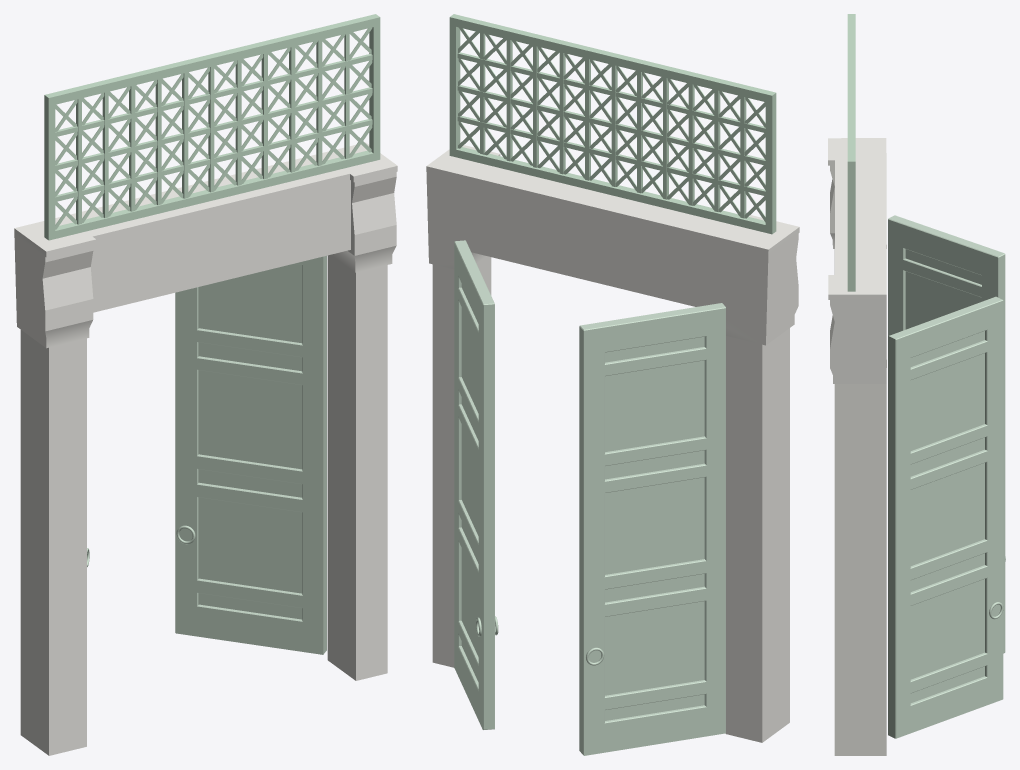
Rendered from sanctuaryDoors.glb.
3 renders of one model, left to right at view 1: azimuth 30°, elevation 25°; view 2: azimuth 150°, elevation 25°; view 3: azimuth 270°, elevation 25°, orthographic. The views are drawn at different scales.
Parts seen in each view (by area): view 1: SanctuaryDoorArch, SanctuaryRightDoor, SanctuaryGrate; view 2: SanctuaryDoorArch, SanctuaryLeftDoor, SanctuaryGrate, SanctuaryRightDoor; view 3: SanctuaryRightDoor, SanctuaryDoorArch, SanctuaryLeftDoor, SanctuaryGrate.
Boxes of the visible parts, x1=… form: SanctuaryDoorArch: x1=14, y1=142, x2=397, y2=755; SanctuaryRightDoor: x1=175, y1=255, x2=326, y2=654; SanctuaryGrate: x1=44, y1=14, x2=380, y2=240; SanctuaryDoorArch: x1=426, y1=145, x2=799, y2=742; SanctuaryLeftDoor: x1=579, y1=303, x2=725, y2=755; SanctuaryGrate: x1=449, y1=14, x2=776, y2=234; SanctuaryRightDoor: x1=454, y1=240, x2=498, y2=729; SanctuaryRightDoor: x1=888, y1=296, x2=1003, y2=738; SanctuaryDoorArch: x1=828, y1=138, x2=886, y2=755; SanctuaryLeftDoor: x1=888, y1=215, x2=1005, y2=653; SanctuaryGrate: x1=847, y1=14, x2=855, y2=291.
Bounding box in the file's own units: 4.79 × 8.48 × 2.3.
